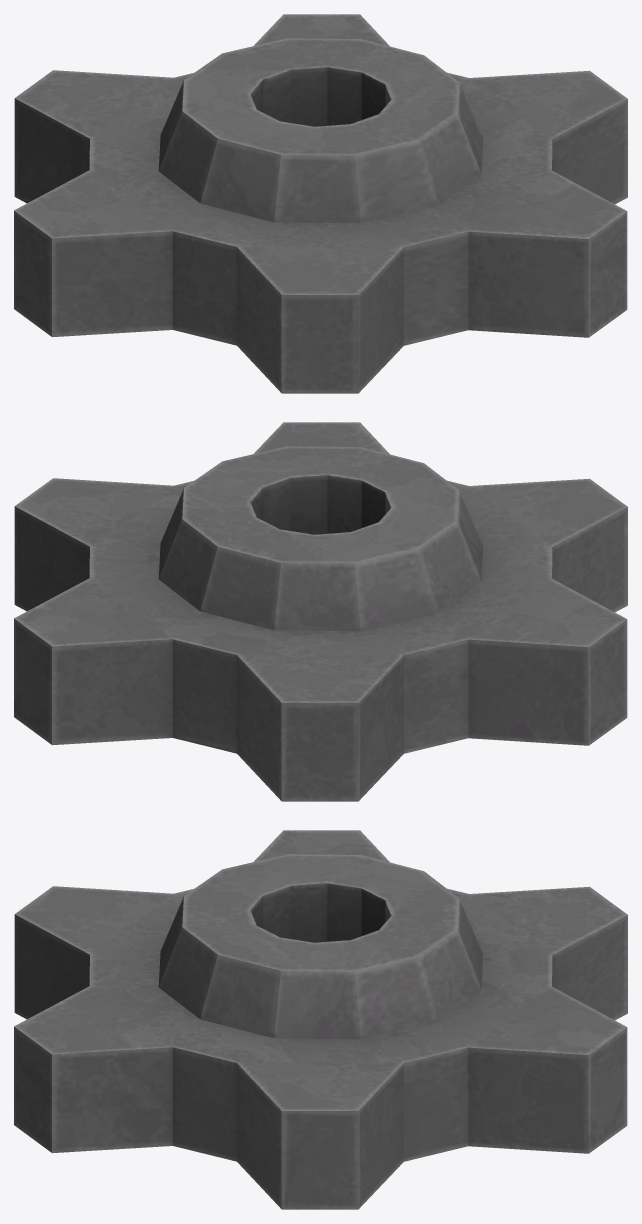
File: IronGear_Polished.glb
3 renders of one model, top to bottom at view 1: azimuth 30°, elevation 25°; view 2: azimuth 150°, elevation 25°; view 3: azimuth 270°, elevation 25°, orthographic.
Visible parts, largest first — view 1: IronGear_Polished; view 2: IronGear_Polished; view 3: IronGear_Polished.
Part boxes in pixels (x1,y1,x2,y2): IronGear_Polished: [14, 14, 627, 393]; IronGear_Polished: [14, 422, 627, 801]; IronGear_Polished: [14, 830, 627, 1209].
Size of the model in its own units: 0.4552 by 0.1182 by 0.4208.
1 material, 1 textured.
